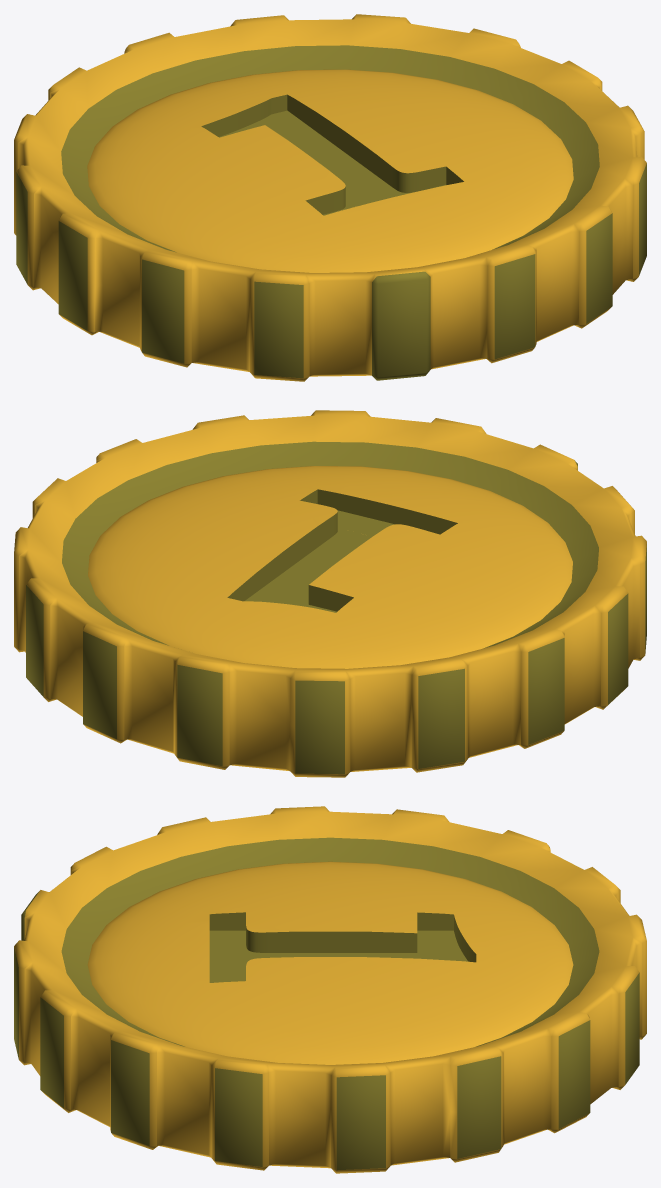
Rendered from Coin2.fbx.
3 views of the same model, one above another, from view 1: azimuth 30°, elevation 25°; view 2: azimuth 150°, elevation 25°; view 3: azimuth 270°, elevation 25° (orthographic).
Visible parts, largest first — view 1: Cylinder.001; view 2: Cylinder.001; view 3: Cylinder.001.
Boxes of the visible parts, left/top/right/bottom form: Cylinder.001: left=14, top=14, right=646, bottom=381; Cylinder.001: left=14, top=410, right=646, bottom=777; Cylinder.001: left=14, top=806, right=646, bottom=1173.
Size of the model in its own units: 88.54 by 16.08 by 88.54.
